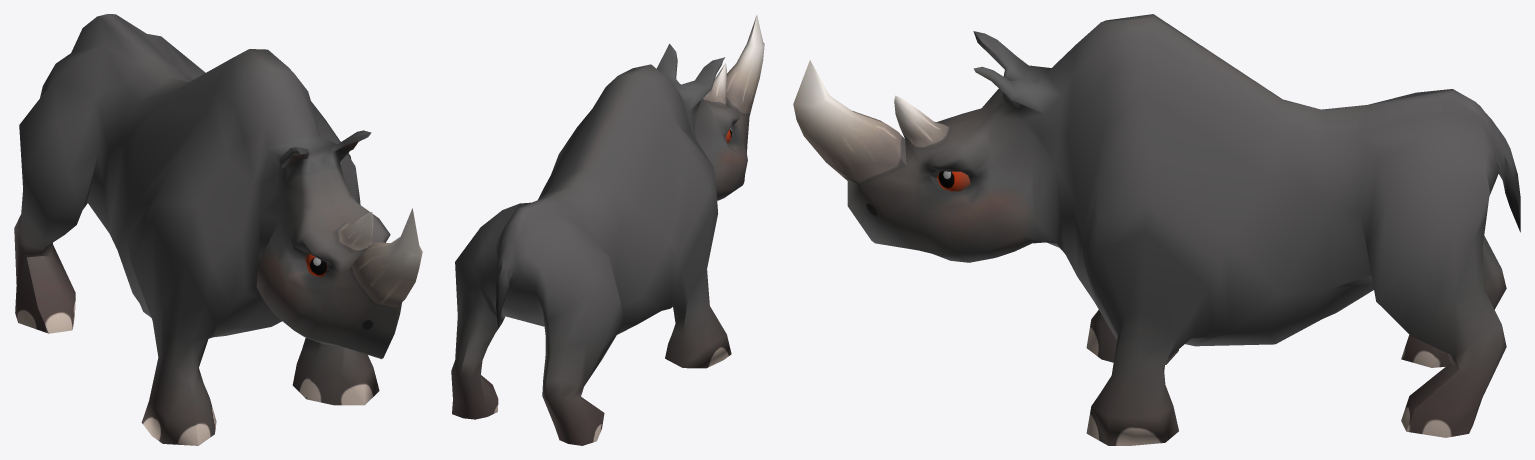
The model's file is mesh_rhino.fbx.
3 renders of one model, left to right at view 1: azimuth 30°, elevation 25°; view 2: azimuth 150°, elevation 25°; view 3: azimuth 270°, elevation 25°, orthographic. The views are drawn at different scales.
Visible parts, largest first — view 1: mesh_rhino; view 2: mesh_rhino; view 3: mesh_rhino.
Boxes of the visible parts, <box> form: mesh_rhino: <box>14,14,422,445</box>; mesh_rhino: <box>451,15,764,445</box>; mesh_rhino: <box>793,14,1520,445</box>.
Bounding box in the file's own units: 3.17 × 4.94 × 8.73.
